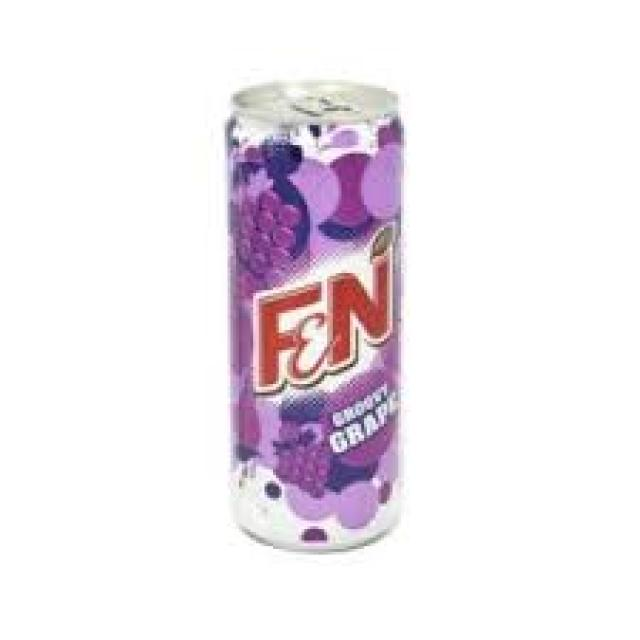Cans: (213, 68, 427, 555)
